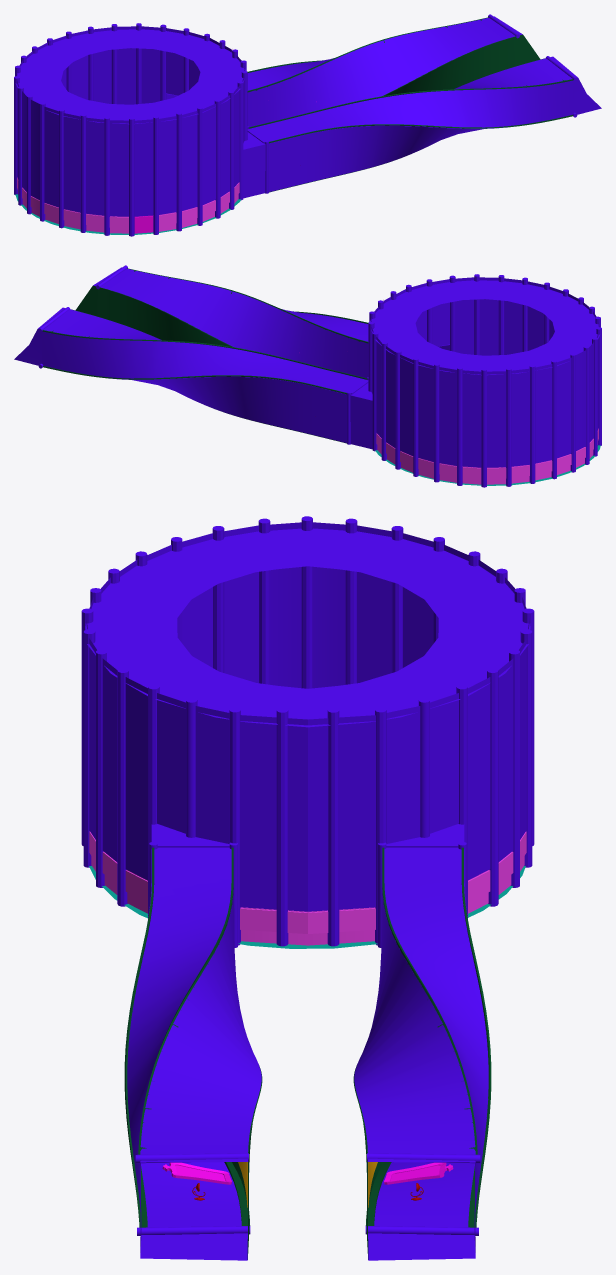
Rendered from SM_ArchitectureV2.fbx.
3 views of the same model, one above another, from view 1: azimuth 30°, elevation 25°; view 2: azimuth 150°, elevation 25°; view 3: azimuth 270°, elevation 25° (orthographic). The views are drawn at different scales.
Parts seen in each view (by area): view 1: polySurface1890; view 2: polySurface1890; view 3: polySurface1890.
Part boxes in pixels (box(x1,y1,x2,y2)): polySurface1890: box(14, 14, 601, 236); polySurface1890: box(14, 265, 601, 487); polySurface1890: box(81, 516, 534, 1260).
Size of the model in its own units: 4546 by 1016 by 1669.
